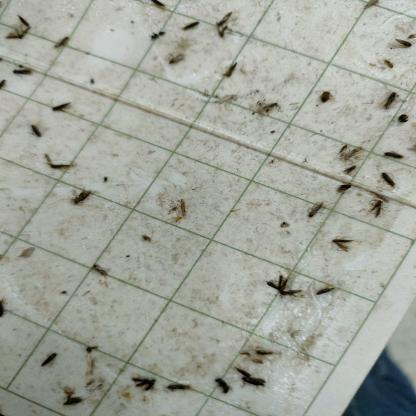prays_oleae: (269, 264, 299, 318), (237, 355, 267, 393), (221, 57, 245, 92), (7, 8, 26, 51), (210, 362, 234, 395), (306, 187, 324, 225), (132, 372, 158, 396), (366, 192, 382, 231), (163, 374, 190, 397), (215, 15, 233, 48), (72, 182, 93, 210), (91, 256, 109, 288), (61, 387, 86, 410), (13, 66, 35, 90), (344, 137, 363, 164), (52, 28, 70, 55), (179, 15, 202, 35), (381, 166, 398, 193), (339, 156, 359, 178), (383, 146, 404, 166), (331, 232, 350, 254), (48, 99, 74, 115), (383, 87, 397, 114), (393, 34, 411, 54), (30, 122, 42, 146), (315, 283, 334, 298), (337, 182, 352, 199), (39, 353, 56, 367)
